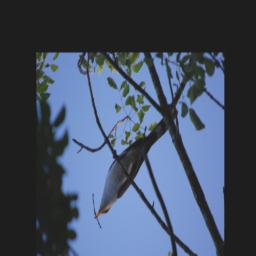Cuckoo: (92, 121, 168, 221)
